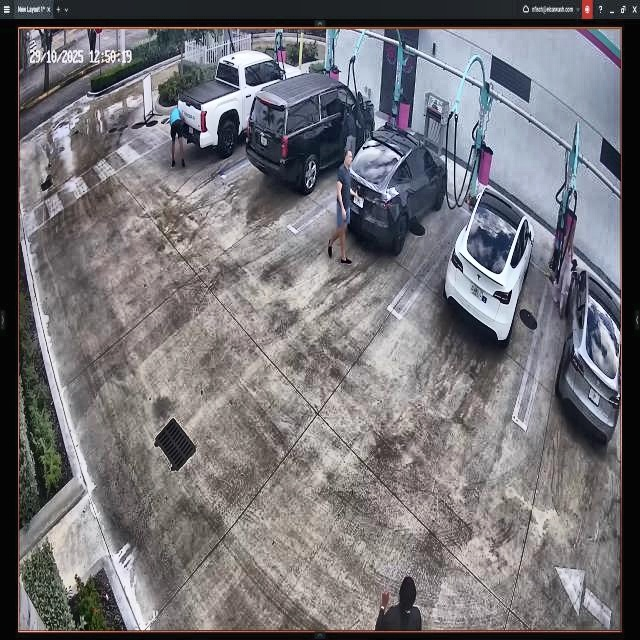Car: (446, 177, 534, 353), (248, 73, 374, 195), (177, 47, 302, 154), (342, 122, 448, 246)
